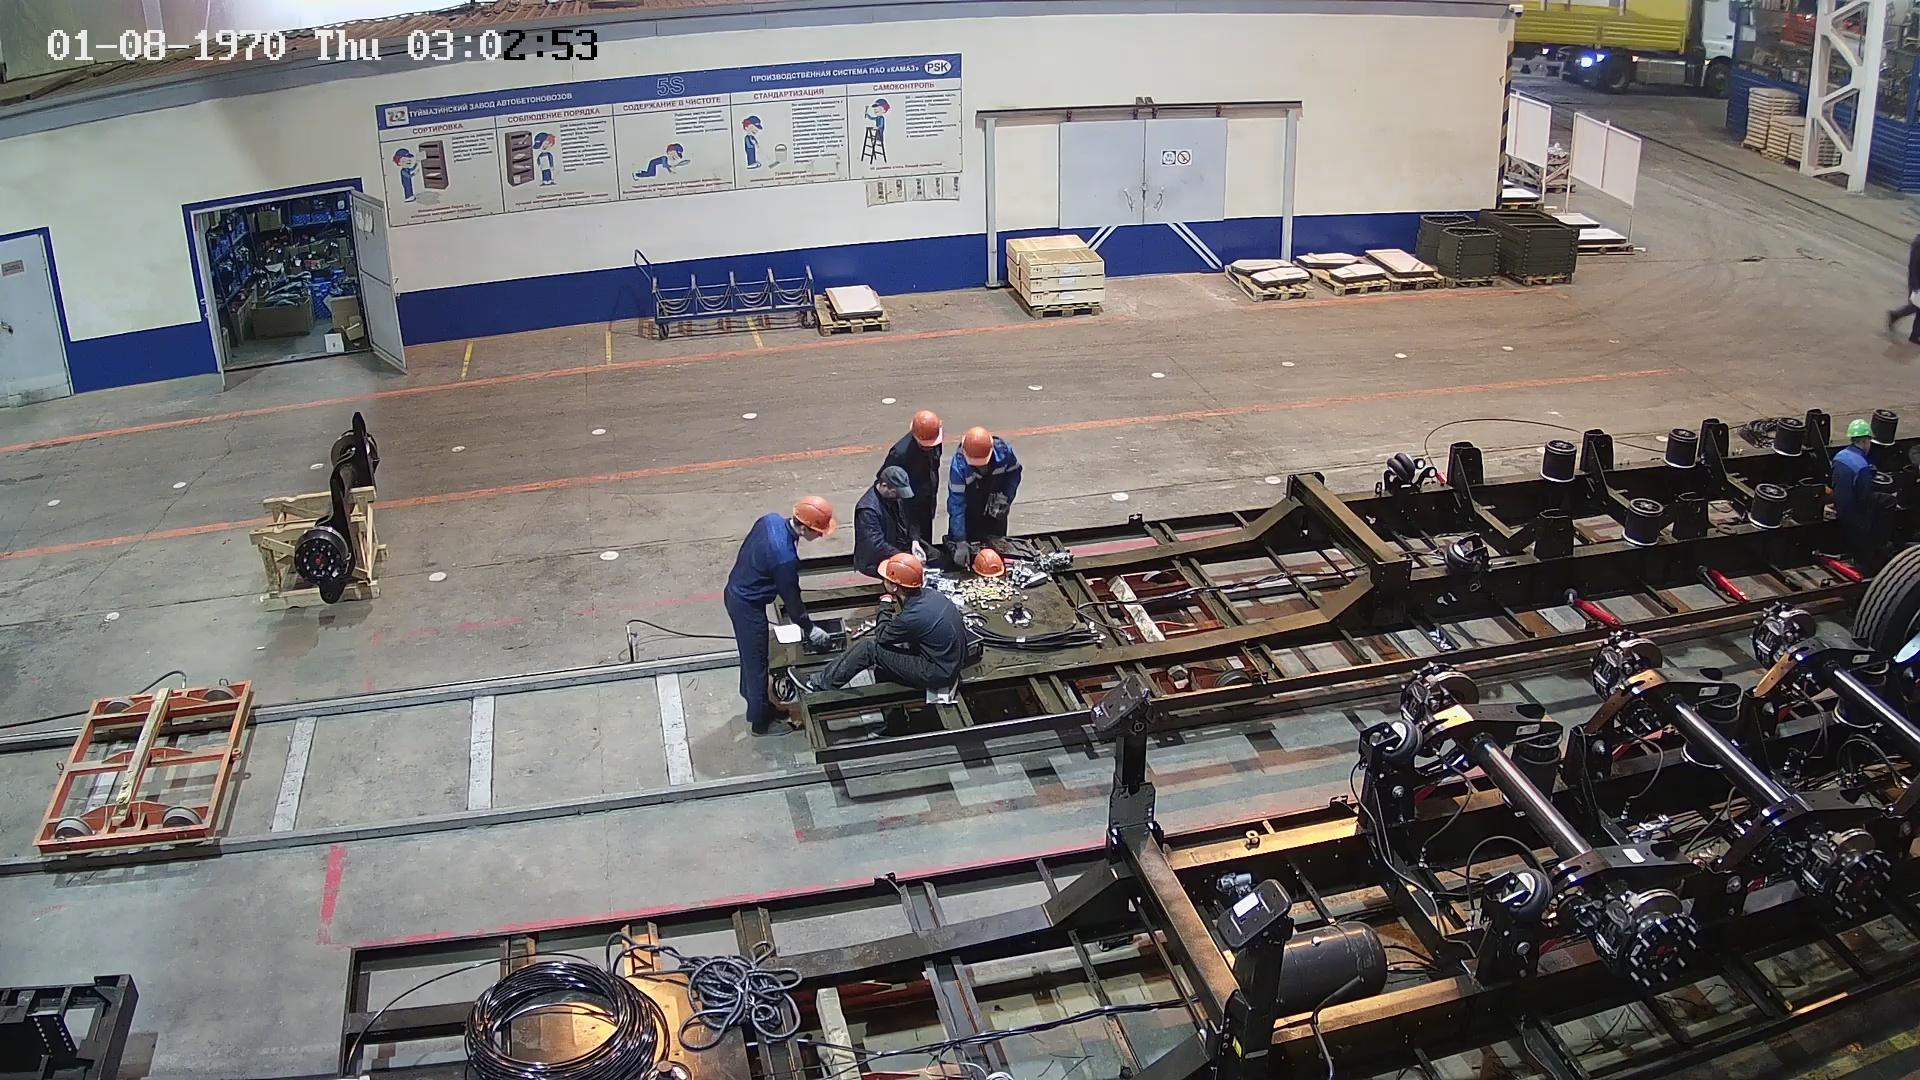helmet: (880, 554, 939, 590), (902, 404, 943, 449), (794, 498, 831, 534), (964, 424, 996, 465), (1844, 410, 1873, 451)
person: (700, 490, 833, 729), (846, 552, 974, 695), (1816, 410, 1887, 556), (886, 404, 948, 543), (950, 426, 1022, 537), (844, 452, 921, 548), (1888, 224, 1920, 359)
